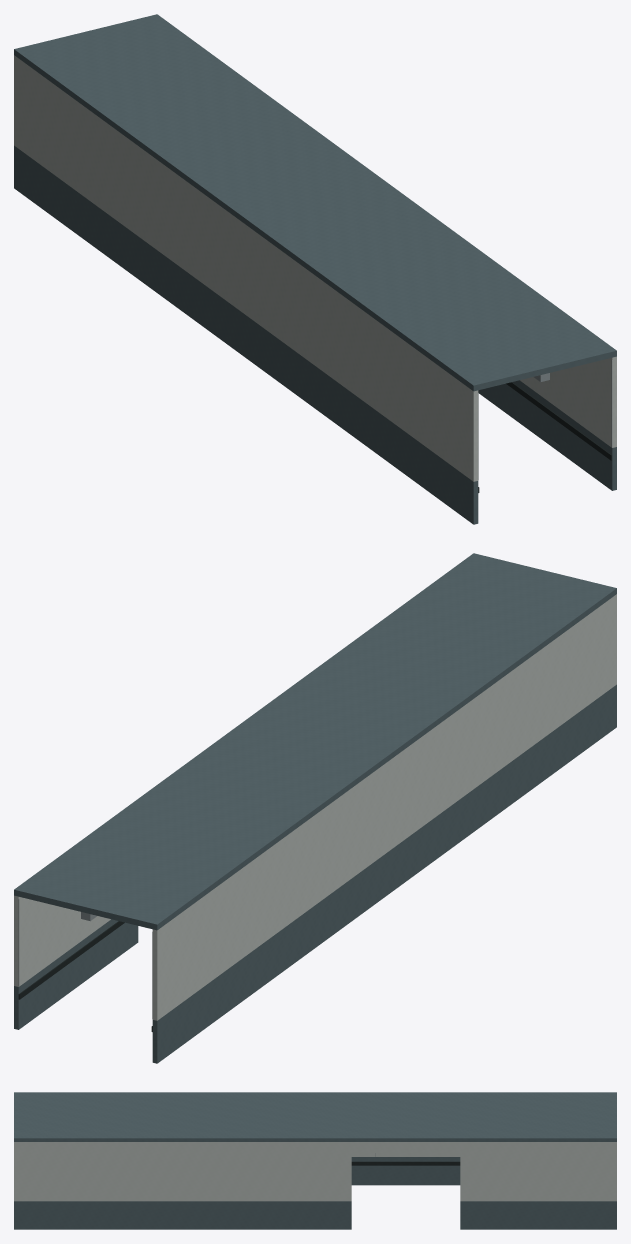
File: AST-STF-G3-008.glb
3 views of the same model, one above another, from view 1: azimuth 30°, elevation 25°; view 2: azimuth 150°, elevation 25°; view 3: azimuth 270°, elevation 25° (orthographic). The views are drawn at different scales.
Parts seen in each view (by area): view 1: STF_CELL_D03_X-3_Z-15_ASTRAEA_staff_bluegrey_paint, STF_CELL_D03_X-3_Z-15_ASTRAEA_staff_white_paint, STF_CELL_D03_X-3_Z-15_ASTRAEA_staff_rubber; view 2: STF_CELL_D03_X-3_Z-15_ASTRAEA_staff_bluegrey_paint, STF_CELL_D03_X-3_Z-15_ASTRAEA_staff_white_paint, STF_CELL_D03_X-3_Z-15_ASTRAEA_staff_rubber; view 3: STF_CELL_D03_X-3_Z-15_ASTRAEA_staff_bluegrey_paint, STF_CELL_D03_X-3_Z-15_ASTRAEA_staff_white_paint, STF_CELL_D03_X-3_Z-15_ASTRAEA_staff_rubber.
Boxes of the visible parts, box(x1,y1,x2,y2) form: STF_CELL_D03_X-3_Z-15_ASTRAEA_staff_bluegrey_paint: box(14, 14, 616, 524); STF_CELL_D03_X-3_Z-15_ASTRAEA_staff_white_paint: box(14, 55, 616, 481); STF_CELL_D03_X-3_Z-15_ASTRAEA_staff_rubber: box(478, 382, 612, 492); STF_CELL_D03_X-3_Z-15_ASTRAEA_staff_bluegrey_paint: box(14, 553, 616, 1063); STF_CELL_D03_X-3_Z-15_ASTRAEA_staff_white_paint: box(14, 594, 616, 1020); STF_CELL_D03_X-3_Z-15_ASTRAEA_staff_rubber: box(18, 921, 152, 1031); STF_CELL_D03_X-3_Z-15_ASTRAEA_staff_bluegrey_paint: box(14, 1092, 616, 1229); STF_CELL_D03_X-3_Z-15_ASTRAEA_staff_white_paint: box(14, 1142, 616, 1201); STF_CELL_D03_X-3_Z-15_ASTRAEA_staff_rubber: box(351, 1161, 460, 1165).
Bounding box in the file's own units: 3.6 × 3.34 × 20.
Materials: 4 (4 with a texture image).
